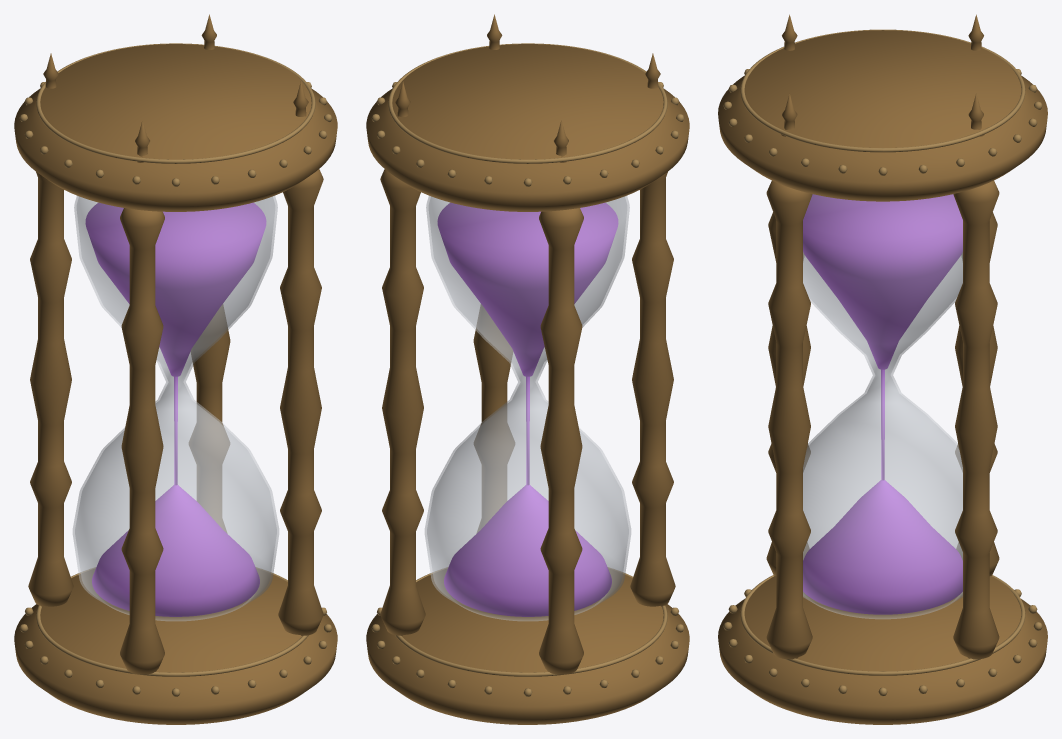
The model's file is gotico_ampulheta_ornamentada.glb.
3 views of the same model, side by side, from view 1: azimuth 30°, elevation 25°; view 2: azimuth 150°, elevation 25°; view 3: azimuth 270°, elevation 25° (orthographic). The views are drawn at different scales.
Visible parts, largest first — view 1: ampulheta_ornamentada; view 2: ampulheta_ornamentada; view 3: ampulheta_ornamentada.
Boxes of the visible parts, x1,y1,x2,y2 form: ampulheta_ornamentada: (14,14,337,724); ampulheta_ornamentada: (366,14,689,724); ampulheta_ornamentada: (718,14,1047,724).
Size of the model in its own units: 0.2 by 0.4071 by 0.2.
